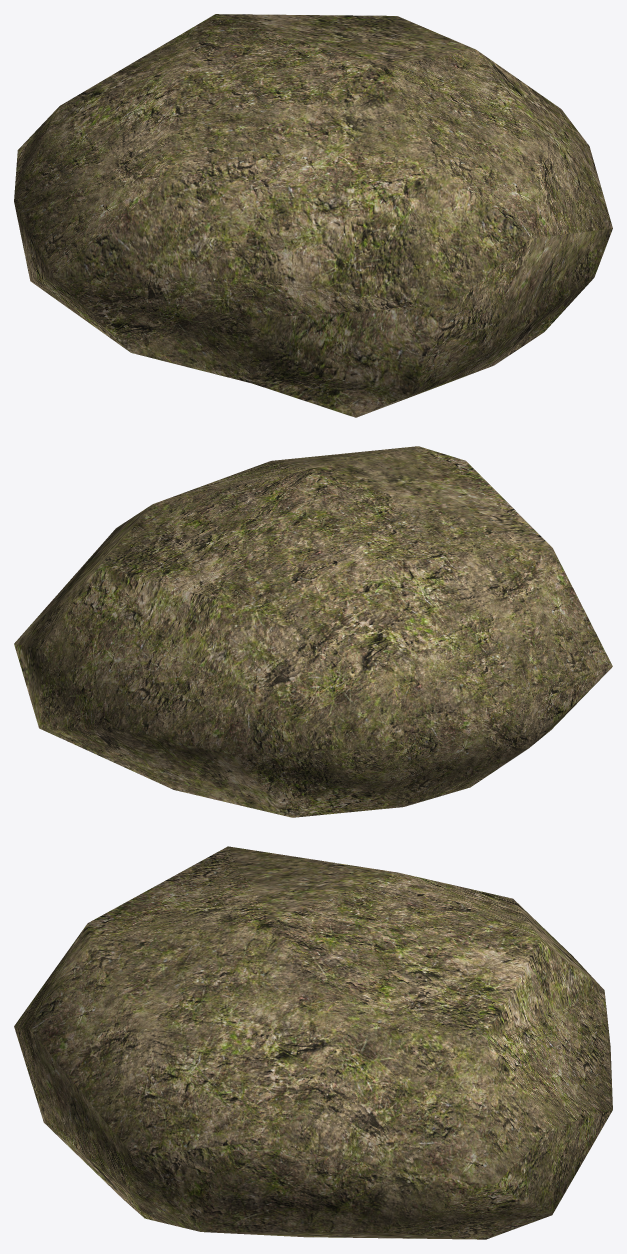
The model's file is Stone02.FBX.
The picture shows the model from 3 angles, top to bottom: view 1: azimuth 30°, elevation 25°; view 2: azimuth 150°, elevation 25°; view 3: azimuth 270°, elevation 25°; orthographic projection. The views are drawn at different scales.
Visible parts, largest first — view 1: Stone02; view 2: Stone02; view 3: Stone02.
Boxes of the visible parts, left/top/right/bottom form: Stone02: left=14, top=14, right=612, bottom=417; Stone02: left=14, top=446, right=612, bottom=817; Stone02: left=14, top=846, right=612, bottom=1239.
Bounding box in the file's own units: 745 × 422 × 712.
